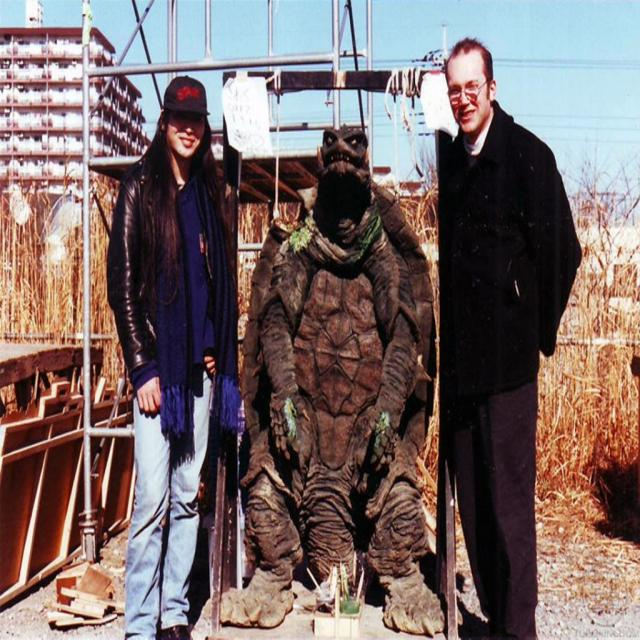nomask: (451, 54, 490, 131), (168, 96, 204, 164)
